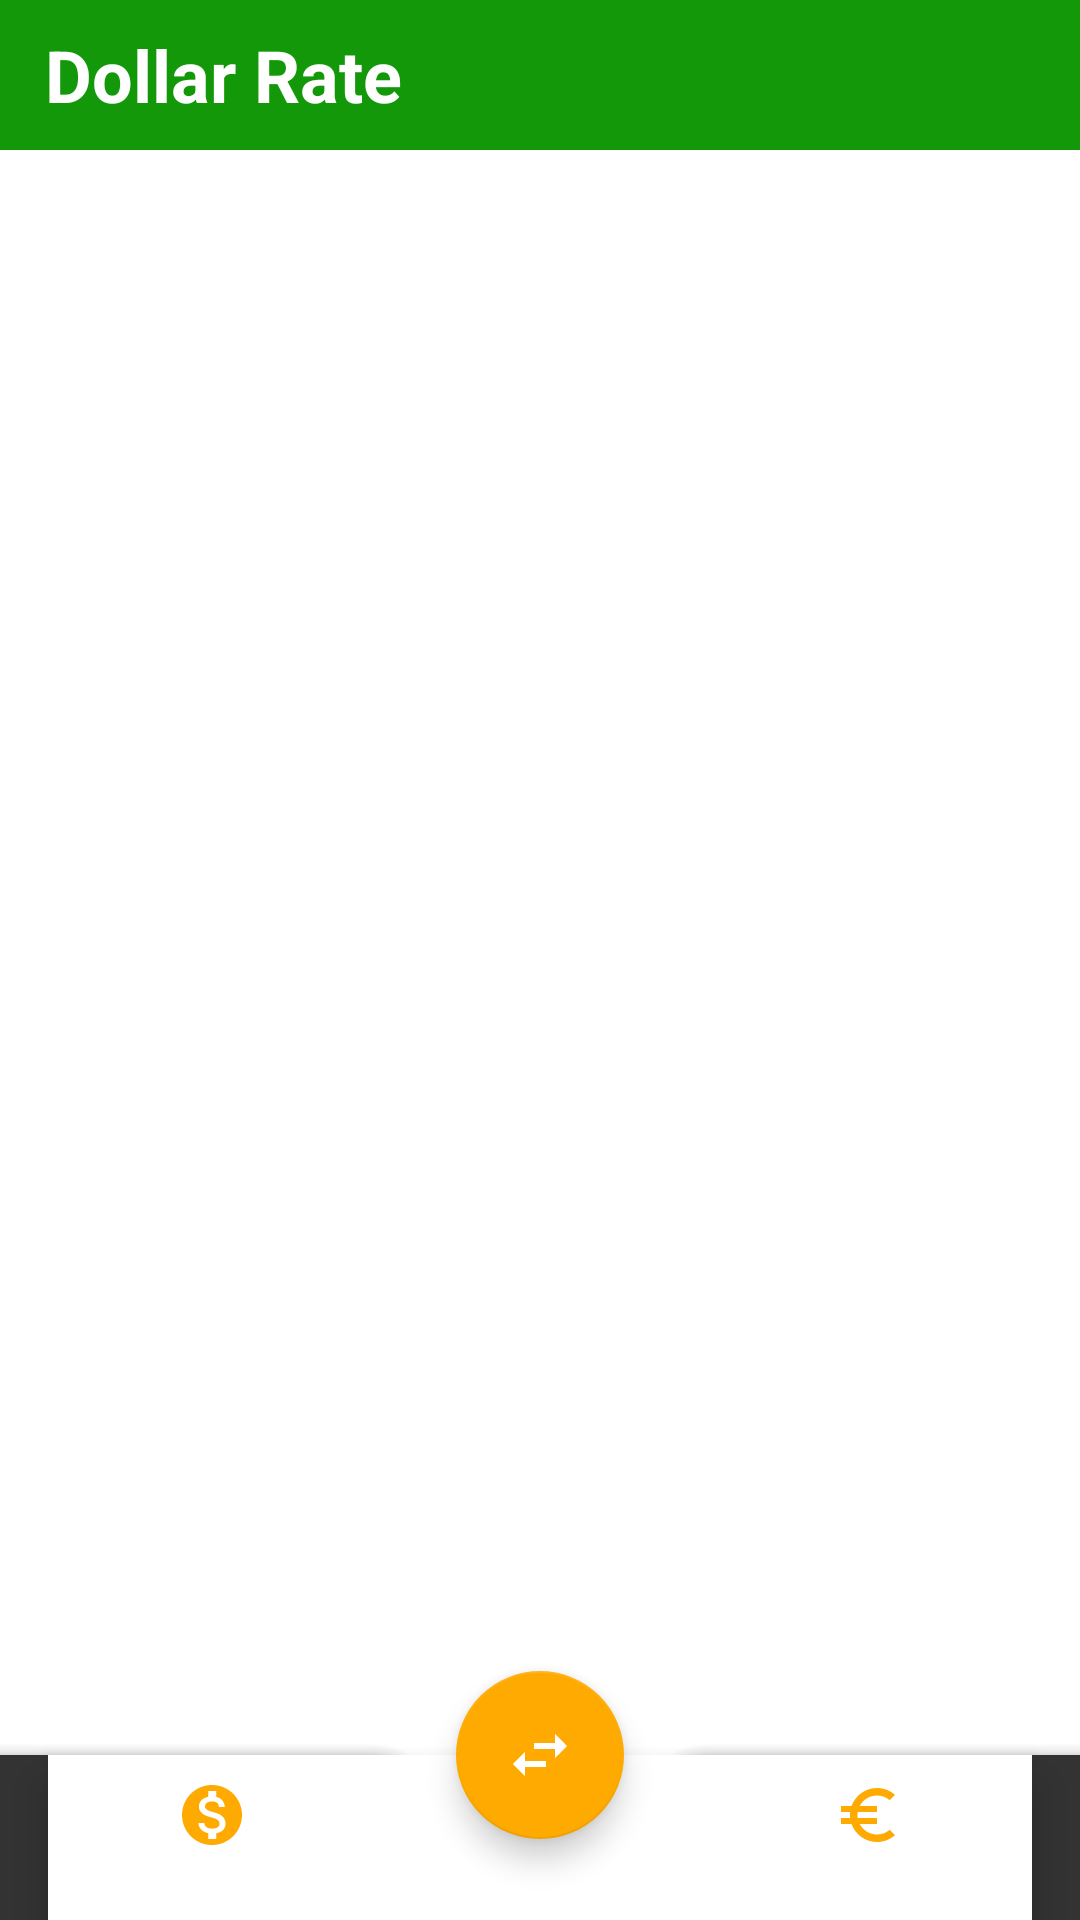

Named icons in this screenshot (1080x1920) and their centers, point (x, y):
convert: point (540, 1755)
